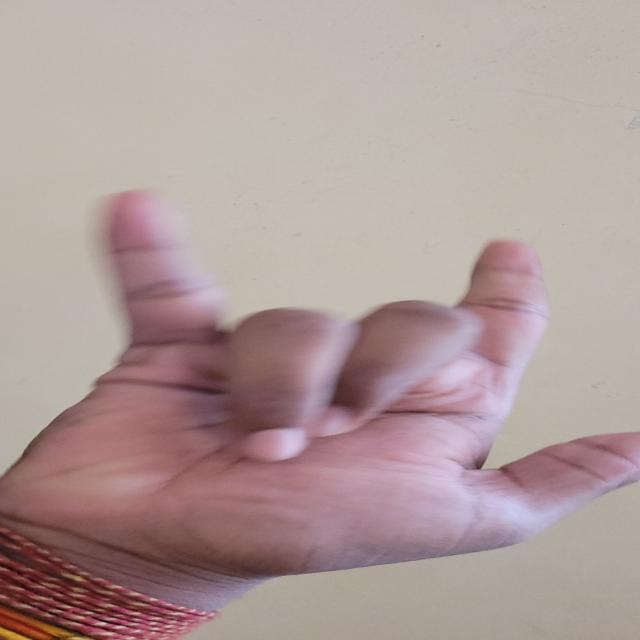i like you: (25, 181, 640, 607)
